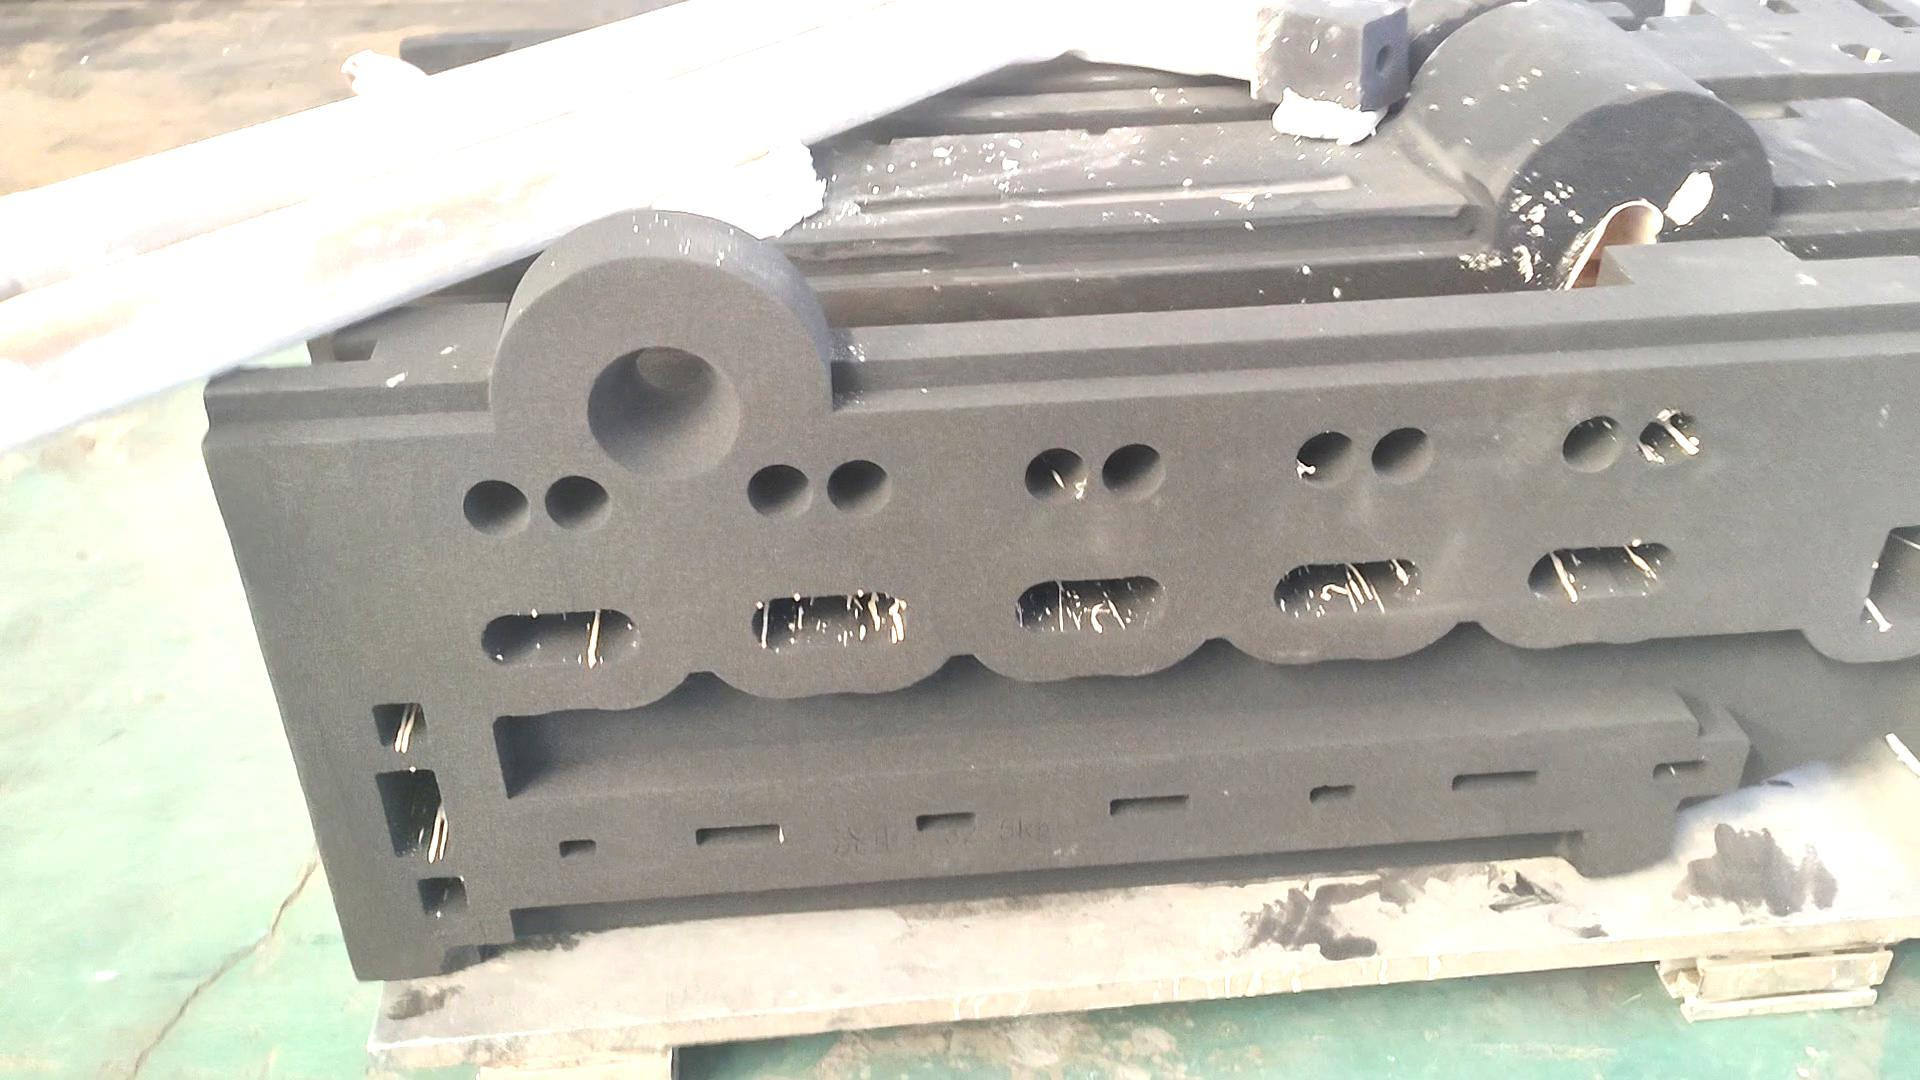pouring hole: (587, 345, 738, 477)
